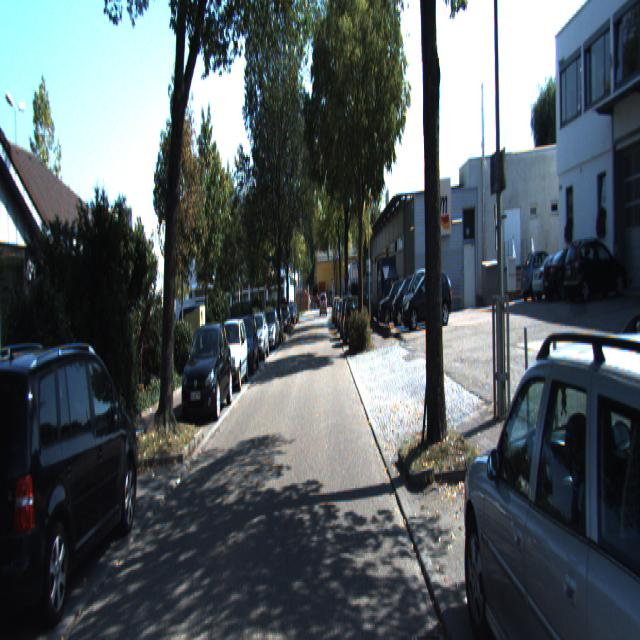Car: (453, 311, 640, 638), (0, 334, 140, 638), (180, 315, 233, 422), (562, 234, 630, 298), (541, 236, 606, 300), (527, 244, 591, 299), (401, 265, 454, 331), (520, 245, 578, 298), (212, 316, 250, 394), (388, 269, 427, 328), (232, 312, 260, 376), (246, 312, 269, 362), (343, 294, 362, 346)
